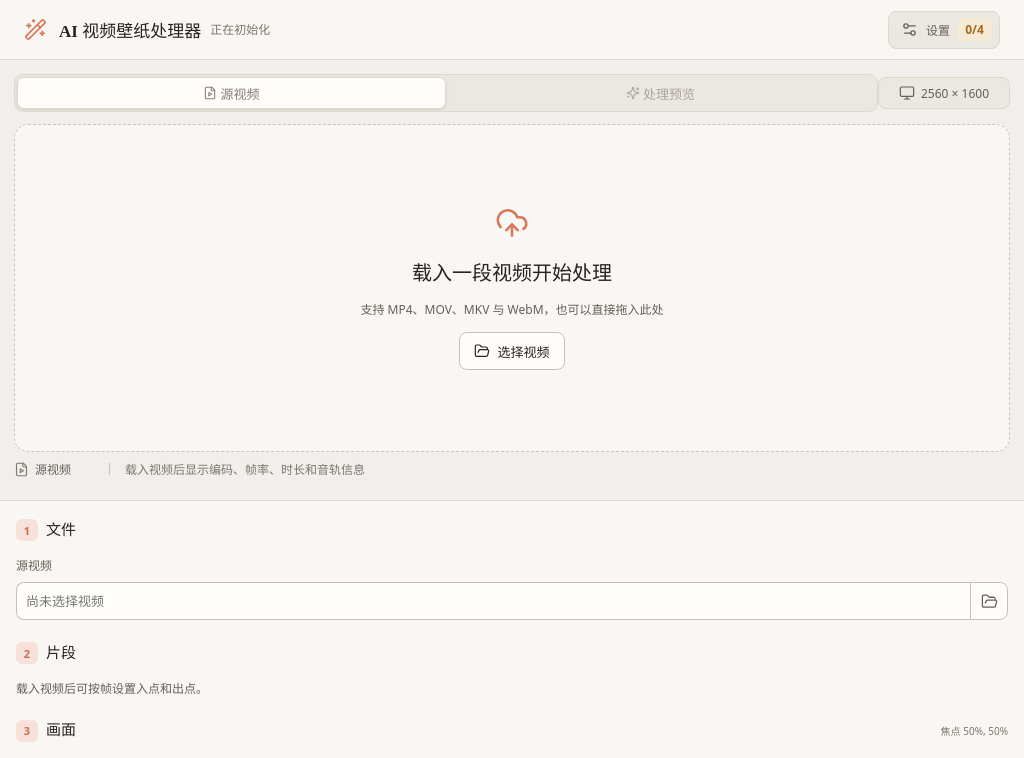
desktop processing controls › shows an available numbered output as soon as the source loads
The image size is (1024, 758).
Click the button named "选择源视频": (989, 601) [970,582,1008,620]
(page scrolled)
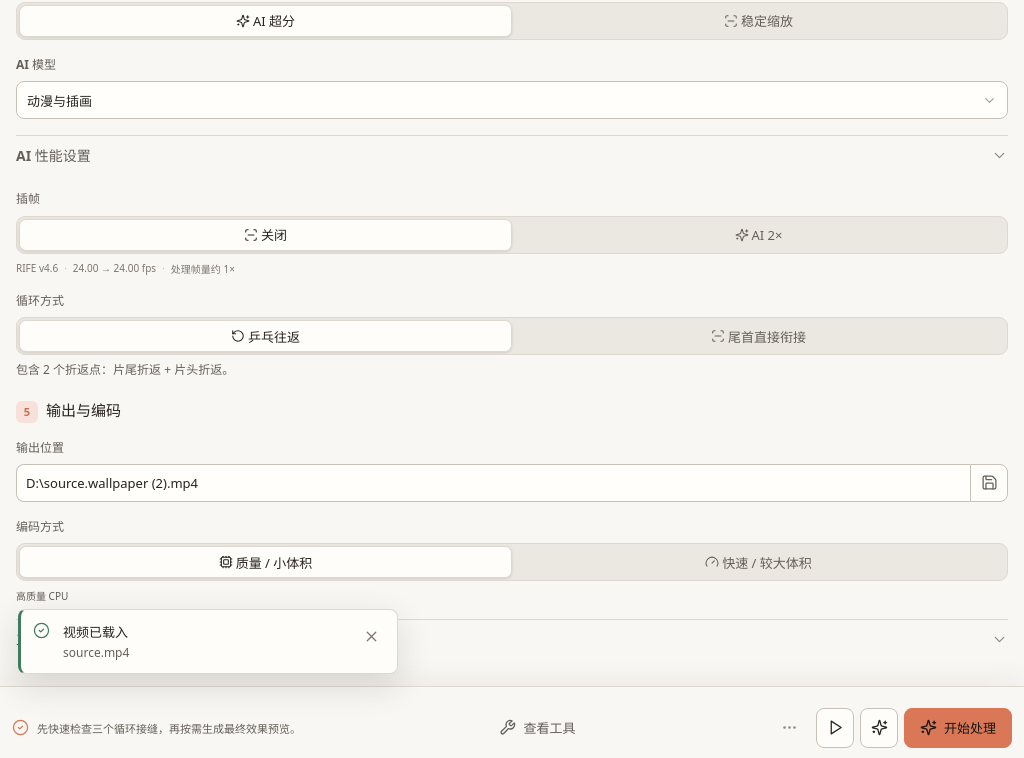
Expected: the field labelled "输出位置" holds "D:\\source.wallpaper (2).mp4", [16,464,970,502]
